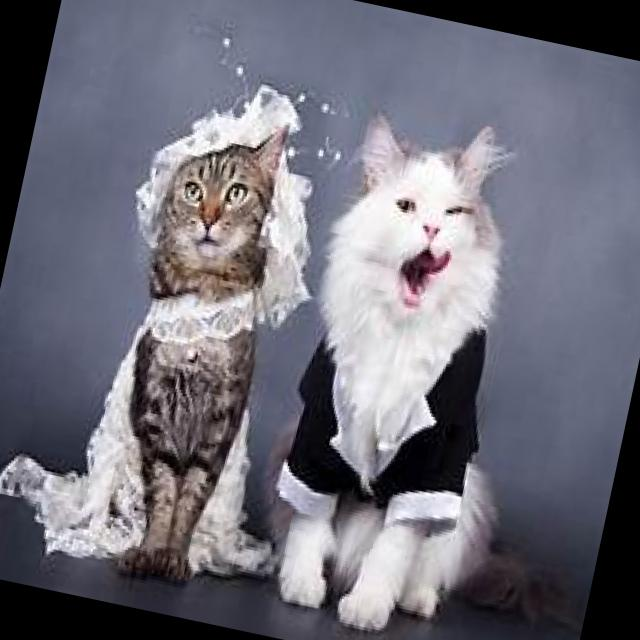cat: (241, 109, 587, 640), (58, 66, 343, 589)
